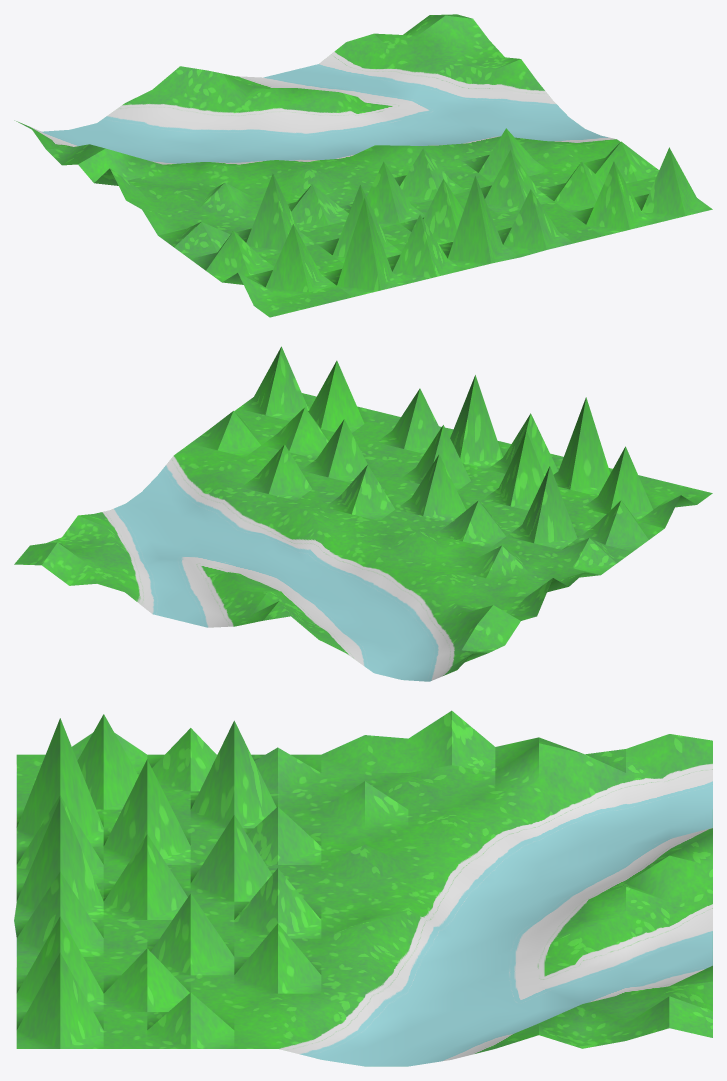
Rendered from Ground5.obj.
3 views of the same model, one above another, from view 1: azimuth 30°, elevation 25°; view 2: azimuth 150°, elevation 25°; view 3: azimuth 270°, elevation 25° (orthographic). The views are drawn at different scales.
Visible parts, largest first — view 1: 平面; view 2: 平面; view 3: 平面.
Boxes of the visible parts, x1,y1,x2,y2 form: 平面: (14, 14, 712, 317); 平面: (14, 346, 712, 681); 平面: (14, 710, 712, 1066).
Bounding box in the file's own units: 20 × 4.06 × 20.08.
Materials: 1 (1 with a texture image).
